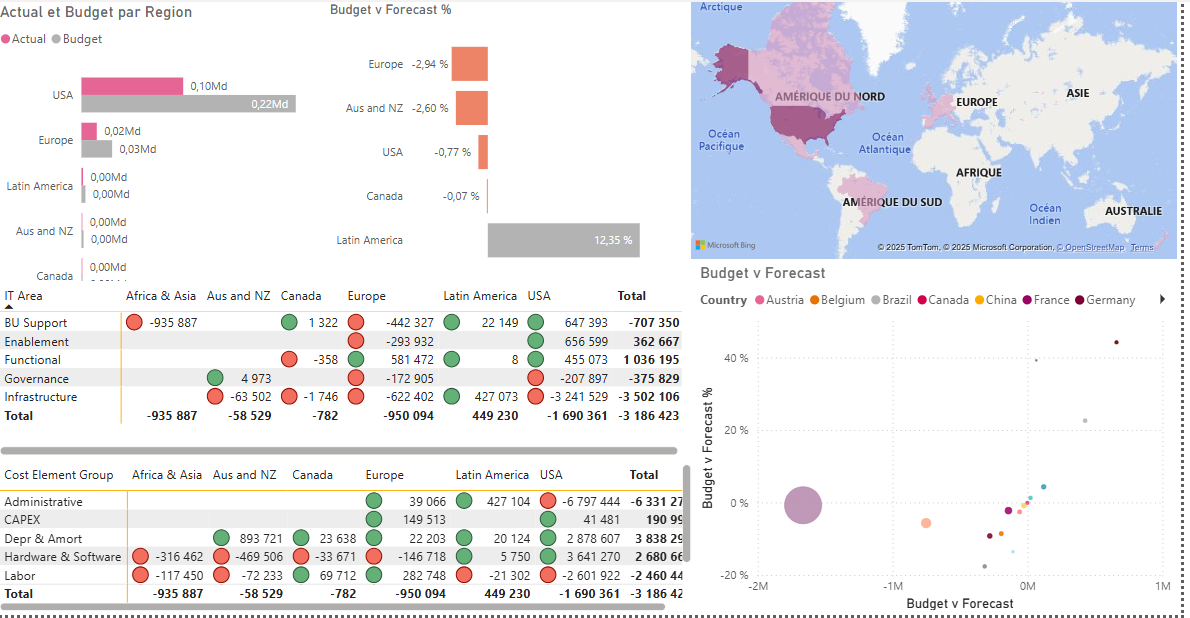

This screenshot's page, from the dashboard's own definition file:
{"tool":"powerbi","page":{"name":"Regions","canvas":[1280,720],"ordinal":1},"visuals":[{"type":"clusteredColumnChart","fields":{"Category":["Regions.Region"],"Y":["Sum(Actuals.Actual)","Sum(Budget.Budget)"]},"box":[0,58.3,367.6,340],"z":0},{"type":"clusteredBarChart","title":"Budget v Forecast %","fields":{"Category":["Regions.Region"],"Y":["Budget.Budget v Forecast %"]},"box":[356.2,58.3,390.2,301.2],"z":1000},{"type":"pivotTable","fields":{"Rows":["Departments.IT Area"],"Columns":["Regions.Region"],"Values":["Budget.Budget v Forecast"]},"box":[0,359.5,746.5,192.7],"z":2000},{"type":"pivotTable","fields":{"Rows":["CostElements.Cost Element Group"],"Columns":["Regions.Region"],"Values":["Budget.Budget v Forecast"]},"box":[0,552.2,756.2,168.4],"z":3000},{"type":"filledMap","fields":{"Category":["Actuals.Country"]},"box":[745.8,0,534.2,340.3],"z":4000},{"type":"scatterChart","title":"Budget v Forecast","fields":{"Series":["Regions.Country"],"X":["Budget.Budget v Forecast"],"Y":["Budget.Budget v Forecast %"],"Size":["Sum(Forecast.Forecast)"]},"box":[756.4,340.3,523.6,379.9],"z":5000}]}

Visuals, with their boxes on the page's 1280x720 design canvas (x1, y1, x2, y2). These are canvas units, not pixel positions in the 1190x618 screenshot, which may show the page scaled, cropped or inside an application window:
clusteredColumnChart - Regions.Region x Sum(Actuals.Actual): 0:58:368:398
"Budget v Forecast %" clusteredBarChart: 356:58:746:360
pivotTable - Departments.IT Area x Regions.Region: 0:360:746:552
pivotTable - CostElements.Cost Element Group x Regions.Region: 0:552:756:721
filledMap - Actuals.Country: 746:0:1280:340
"Budget v Forecast" scatterChart: 756:340:1280:720
